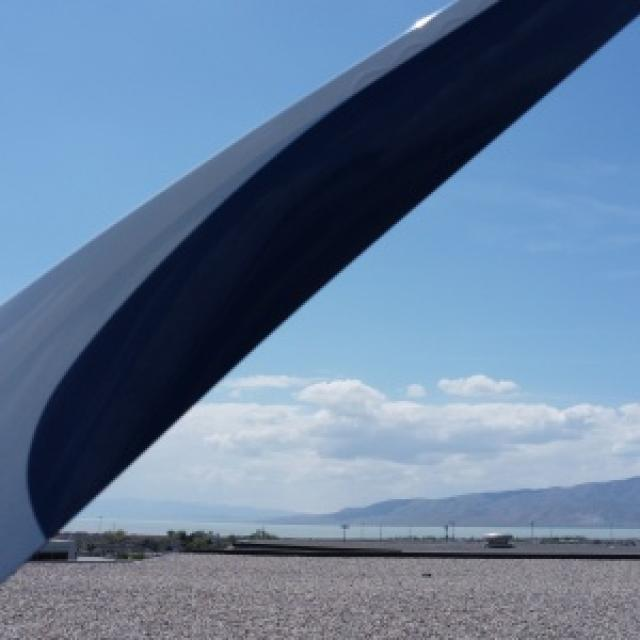healthy: (0, 0, 638, 574)
